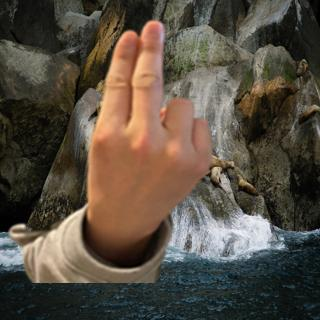DHAVE: (79, 14, 218, 251)
